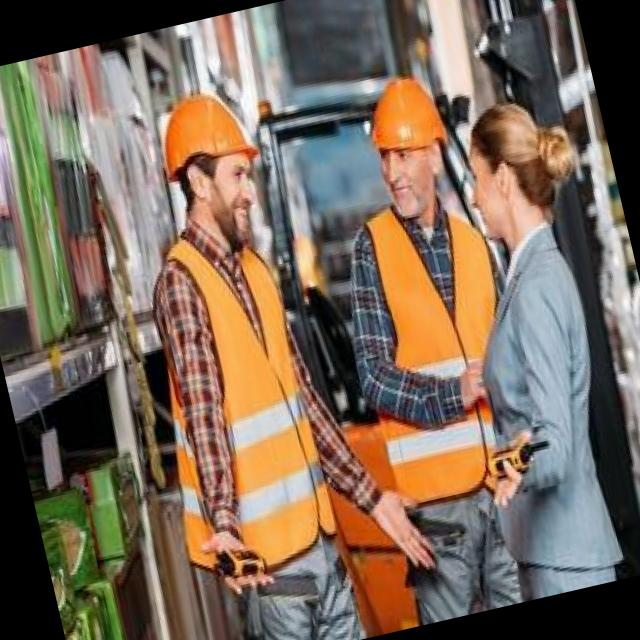helmet: (150, 74, 265, 182), (358, 66, 451, 162)
no-goggles: (170, 146, 270, 209), (363, 125, 454, 182), (461, 141, 526, 191)
no-helmet: (452, 82, 548, 171)
no-vest: (457, 249, 640, 589)
vest: (130, 220, 343, 577), (328, 198, 538, 526)
